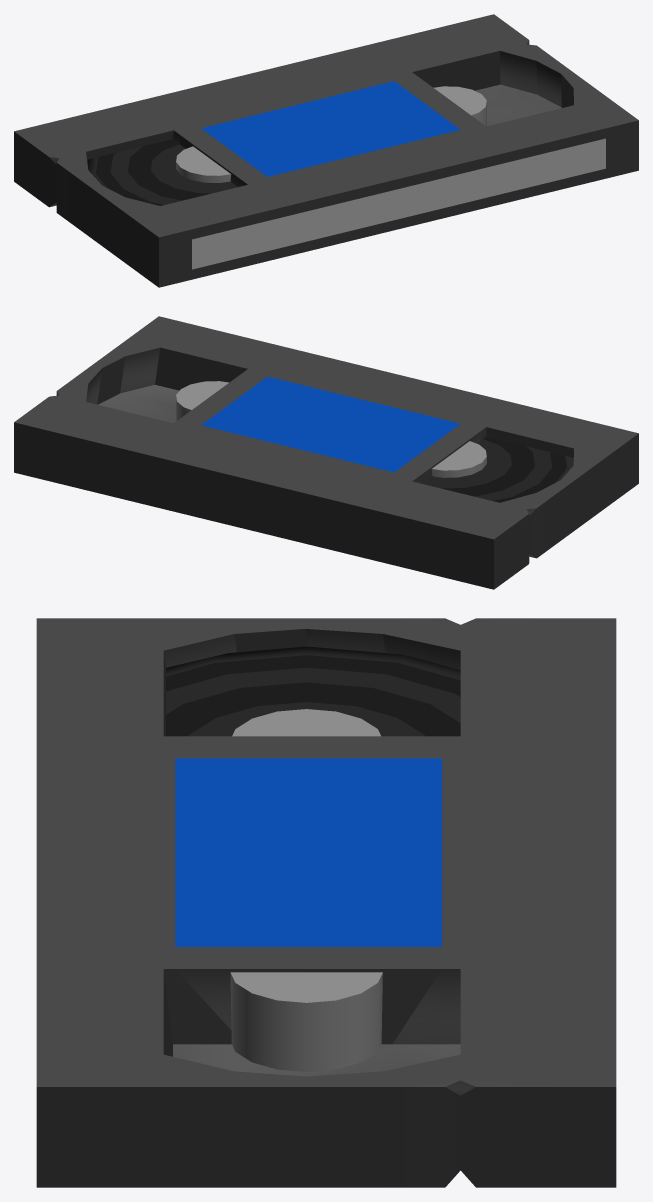
File: human-electronics-vhs-tape_v1.glb
The picture shows the model from 3 angles, top to bottom: view 1: azimuth 30°, elevation 25°; view 2: azimuth 150°, elevation 25°; view 3: azimuth 270°, elevation 25°; orthographic projection. The views are drawn at different scales.
Visible parts, largest first — view 1: VHS Tape; view 2: VHS Tape; view 3: VHS Tape.
Part boxes in pixels (left/top/right/bottom): VHS Tape: left=14, top=14, right=638, bottom=287; VHS Tape: left=14, top=316, right=638, bottom=589; VHS Tape: left=36, top=618, right=616, bottom=1187.
Size of the model in its own units: 0.19 by 0.02 by 0.0994.
